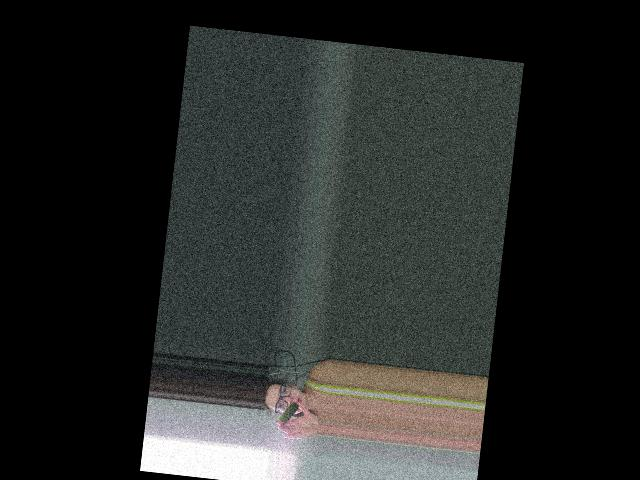cucumber: (278, 400, 299, 424)
